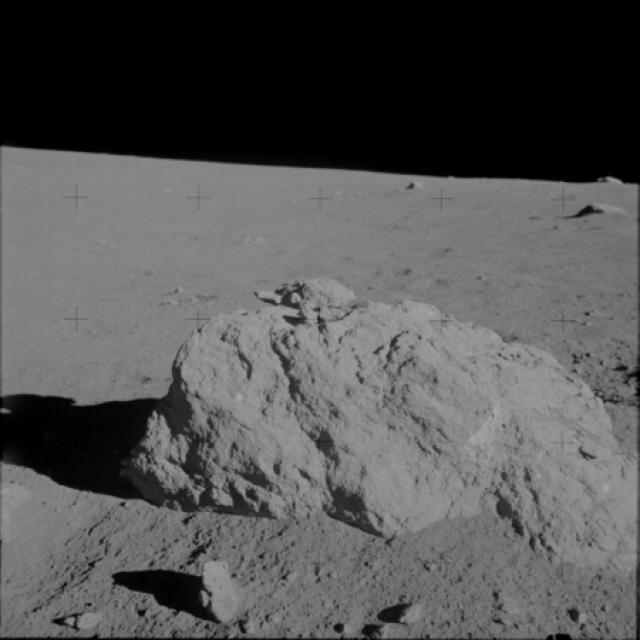rock: (125, 267, 639, 572), (194, 559, 253, 625), (564, 187, 629, 226), (51, 606, 105, 634), (379, 602, 430, 626), (350, 617, 400, 639)
